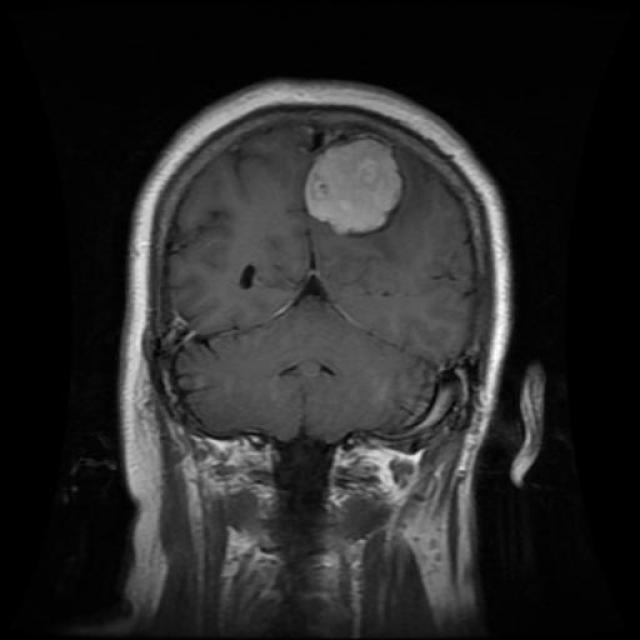meningioma: (304, 139, 404, 232)
